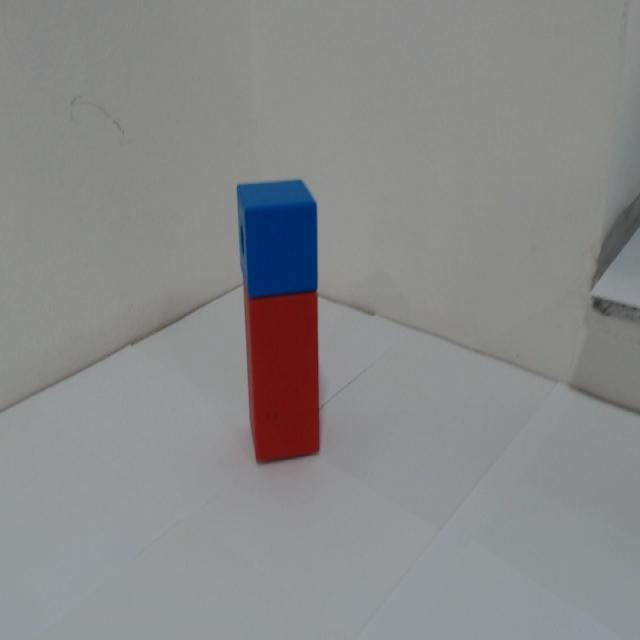cube: (228, 179, 345, 297)
